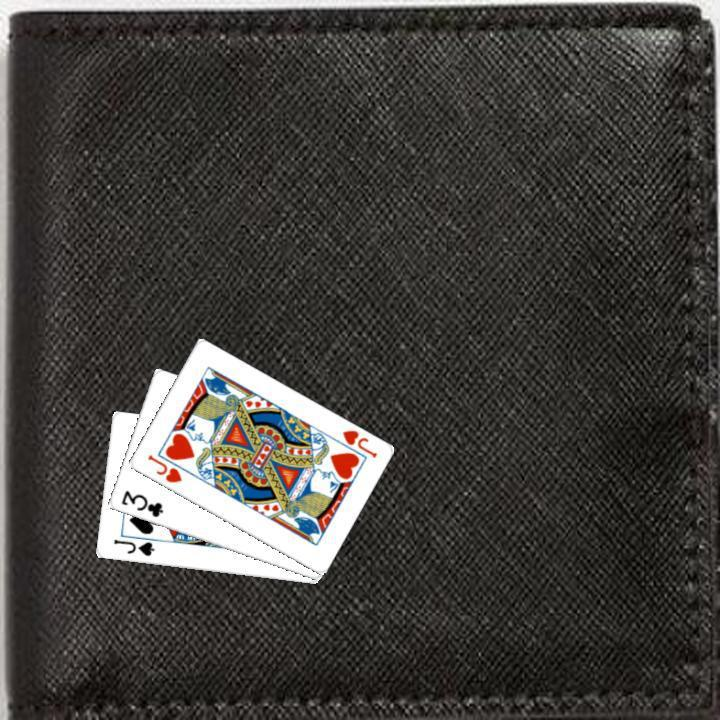3: (116, 486, 165, 519)
J: (143, 450, 184, 485), (338, 425, 379, 460), (109, 535, 156, 558)
